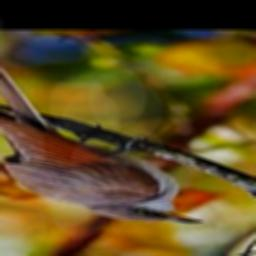Cuckoo: (0, 49, 204, 224)
